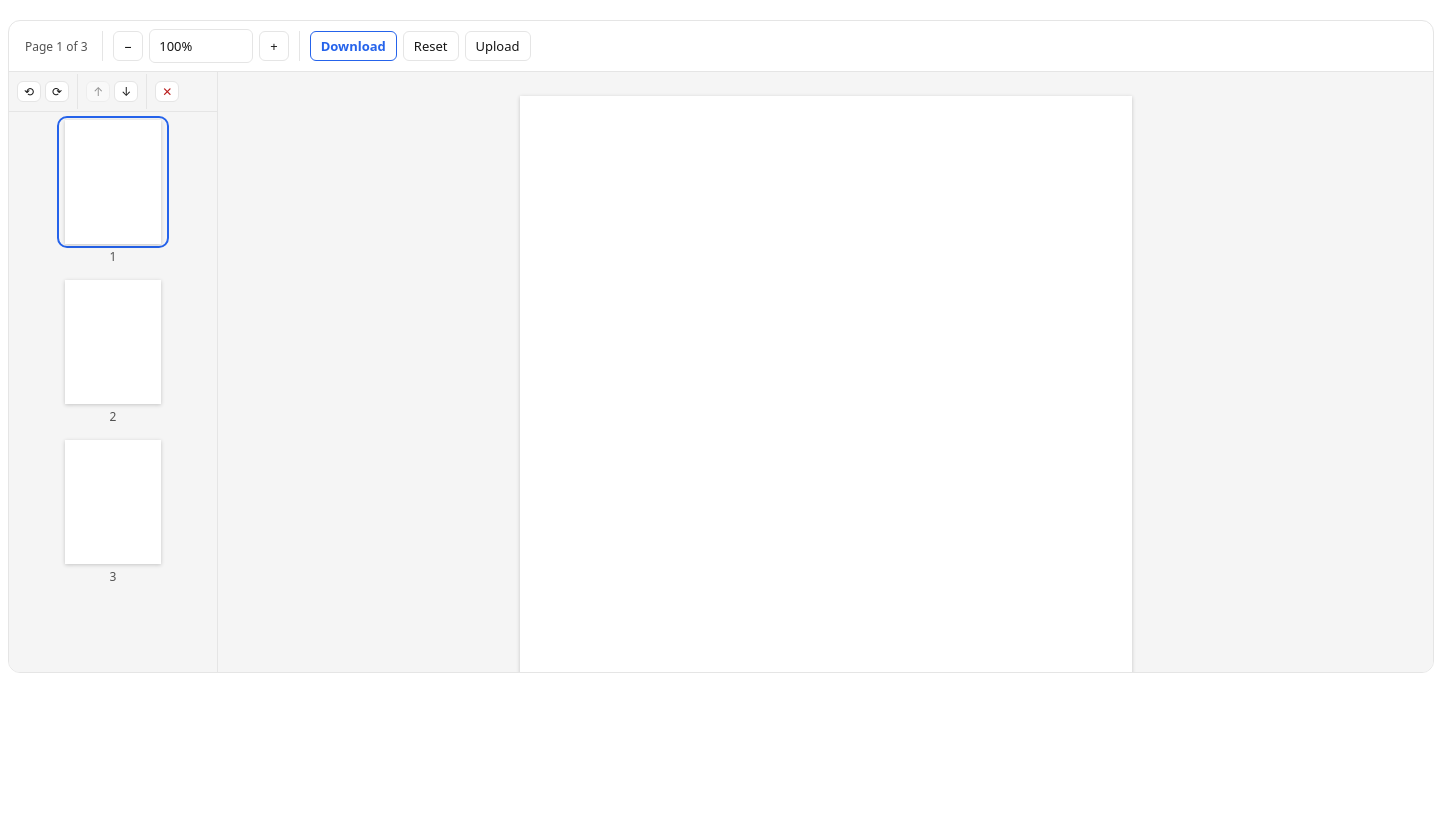
Test: PdfEditor › offers the upstream editor zoom modes and presets, stepping by range
Expected: the text "Page 1 of 3" is shown, [21,38,92,54]
Step 1. Click the button named "Zoom in" → (274, 46), box [259,31,289,61]
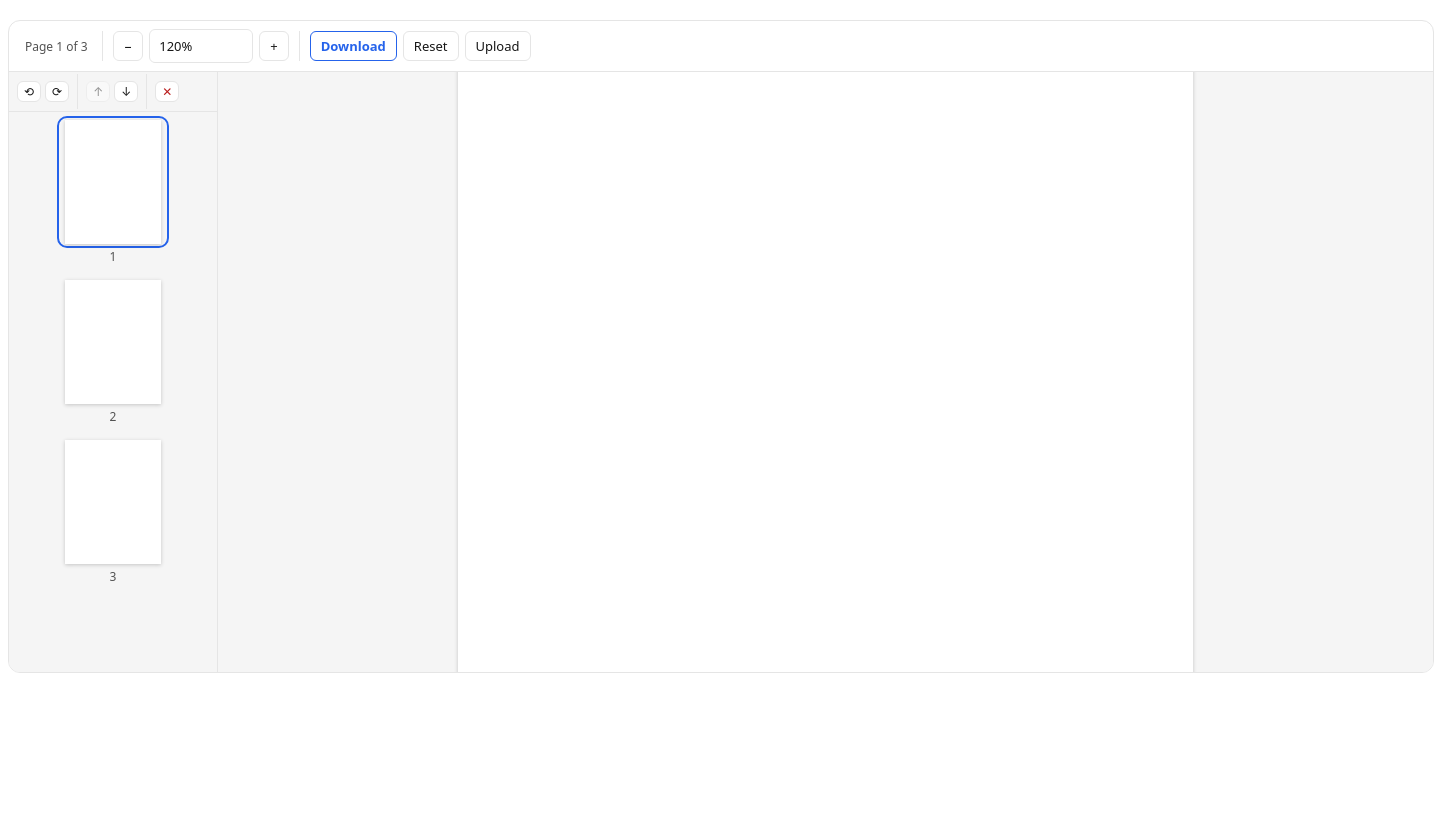
Expected: the text with test id "pdf-editor-zoom-label" reads "120%", [159,37,192,55]
Step 2. Select "300%" in the dropdown named "Zoom level" → (201, 46), box [149,29,253,63]
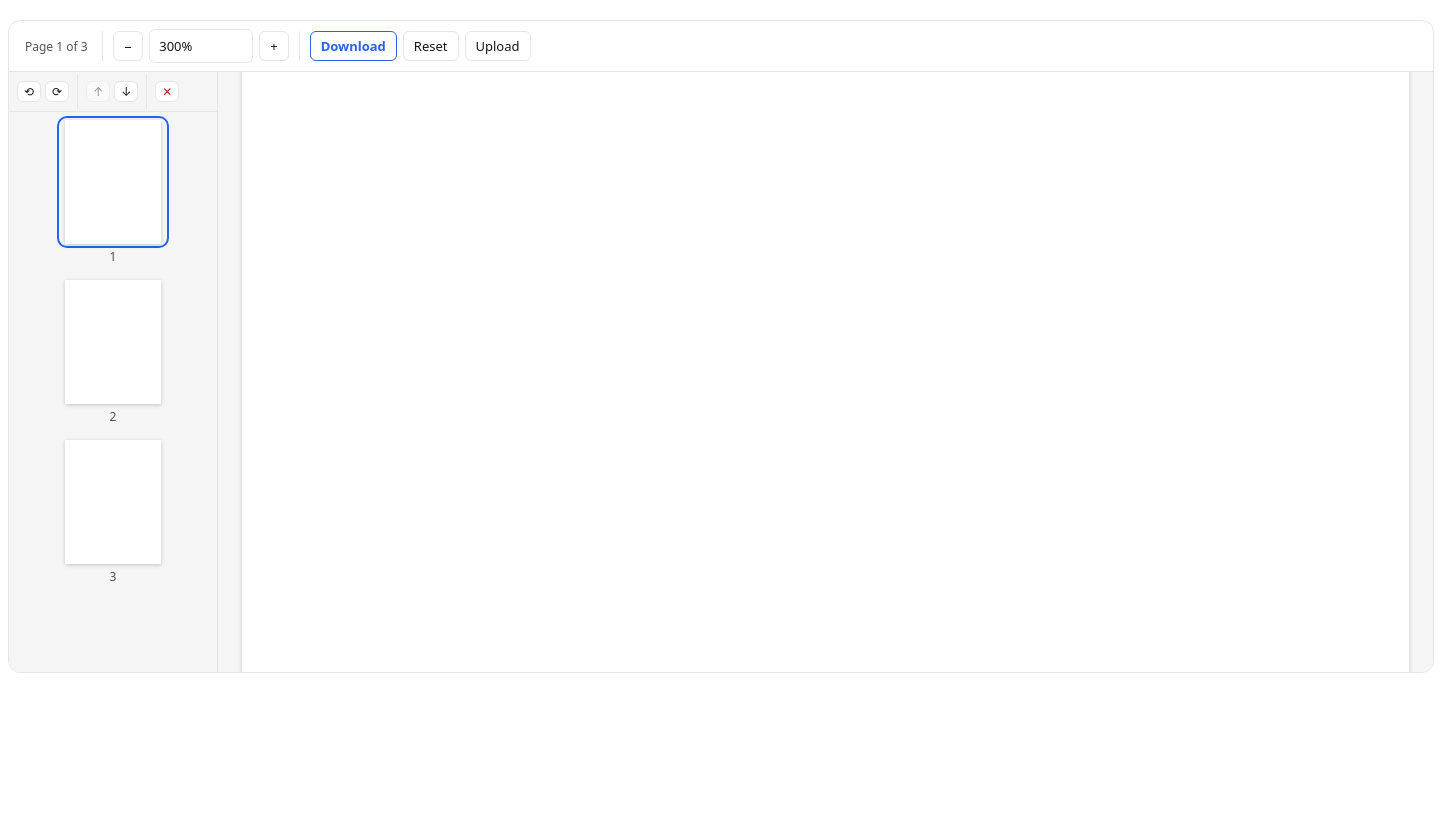
Expected: the text with test id "pdf-editor-zoom-label" reads "300%", [159,37,192,55]
